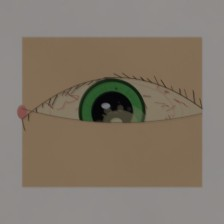corneal_ulcer: (92, 99, 148, 145)
